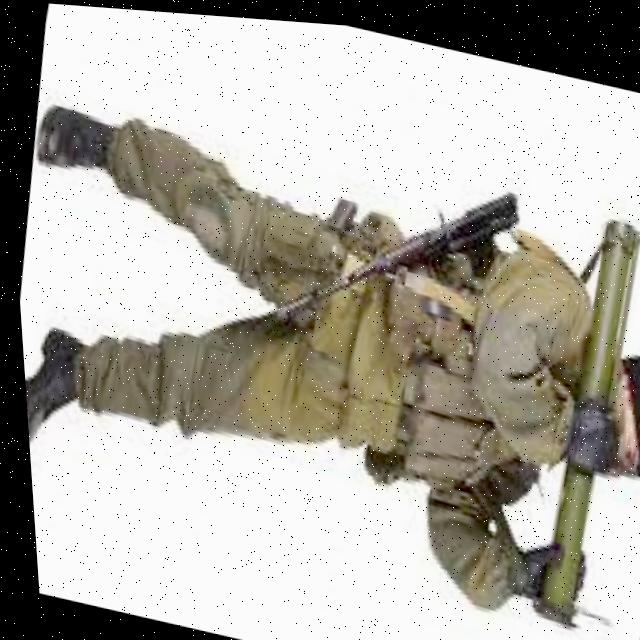rocket: (500, 197, 640, 640)
